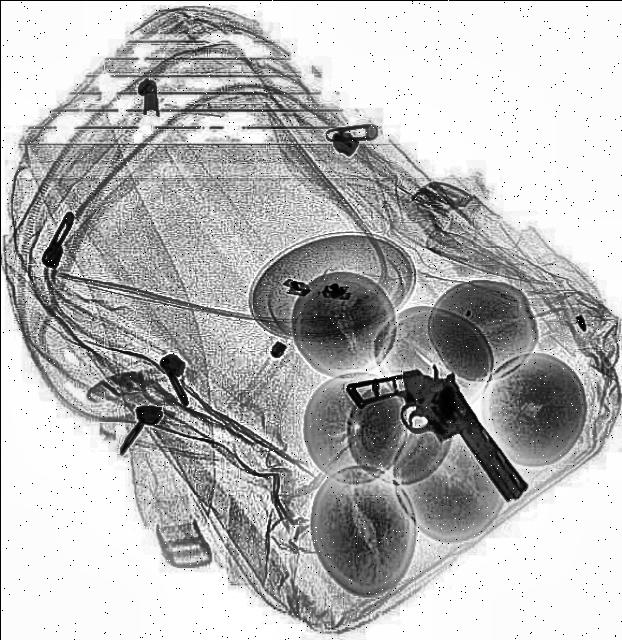Gun: (344, 338, 532, 540)
